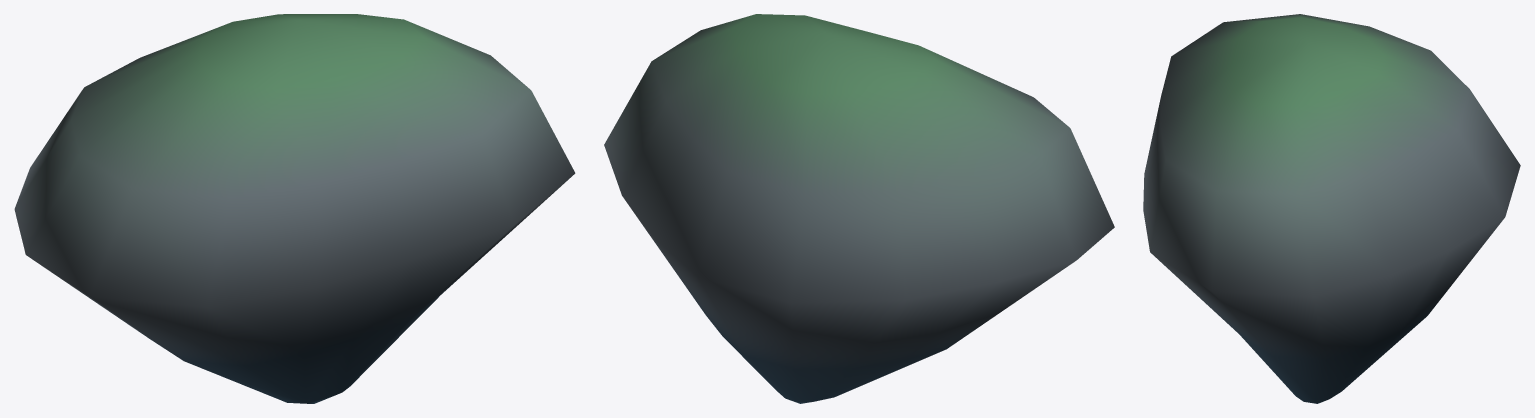
Rendered from wind-rock.glb.
3 views of the same model, side by side, from view 1: azimuth 30°, elevation 25°; view 2: azimuth 150°, elevation 25°; view 3: azimuth 270°, elevation 25° (orthographic). The views are drawn at different scales.
Parts seen in each view (by area): view 1: Wind-carved hanging rock; view 2: Wind-carved hanging rock; view 3: Wind-carved hanging rock.
Part boxes in pixels (x1,y1,x2,y2): Wind-carved hanging rock: (14,14,575,403); Wind-carved hanging rock: (604,14,1114,403); Wind-carved hanging rock: (1143,14,1520,403).
Size of the model in its own units: 8.46 by 6.35 by 6.14.
